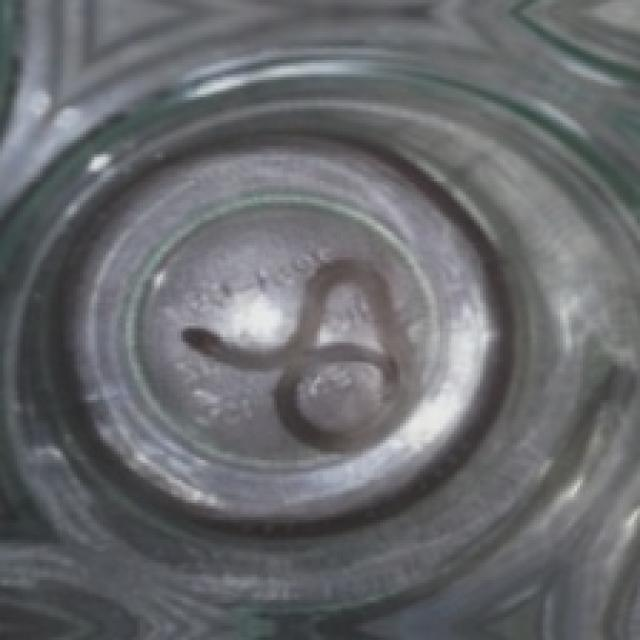gervais worm snake: (183, 260, 414, 449)
